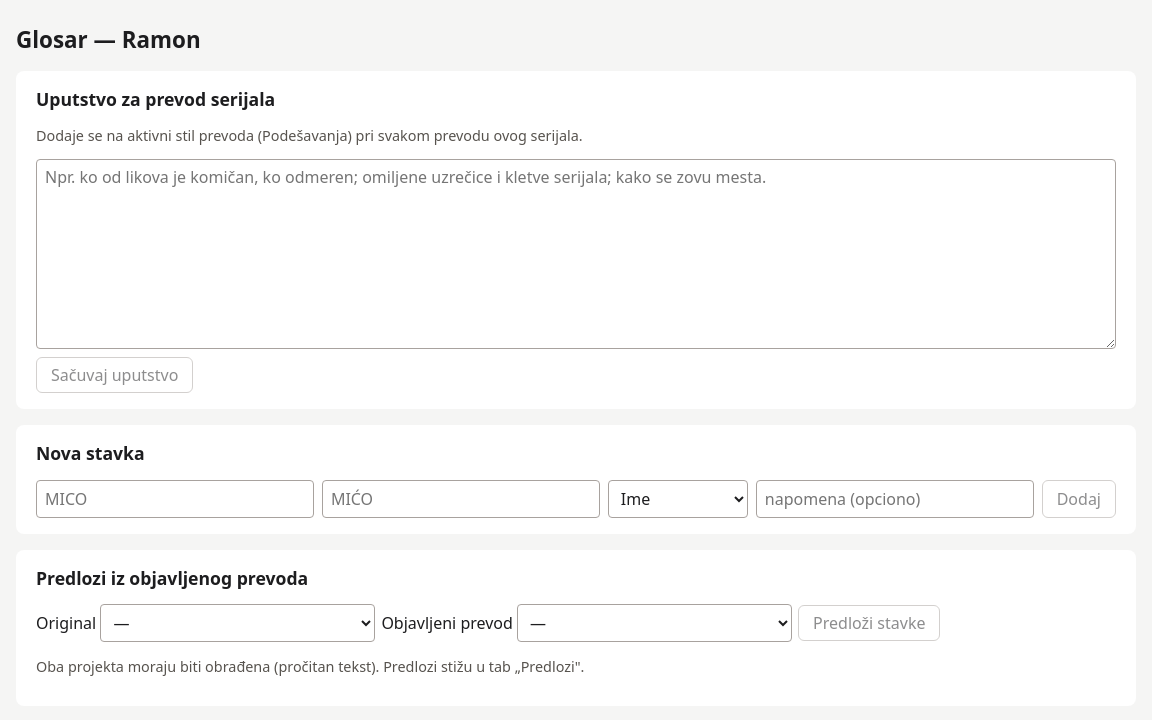
GlossaryPage › pokreće predloge iz objavljenog prevoda
Select "Ramon 12 — Pasakr" in the dropdown labelled "Original" at point(238, 623), box left=100, top=604, right=375, bottom=642
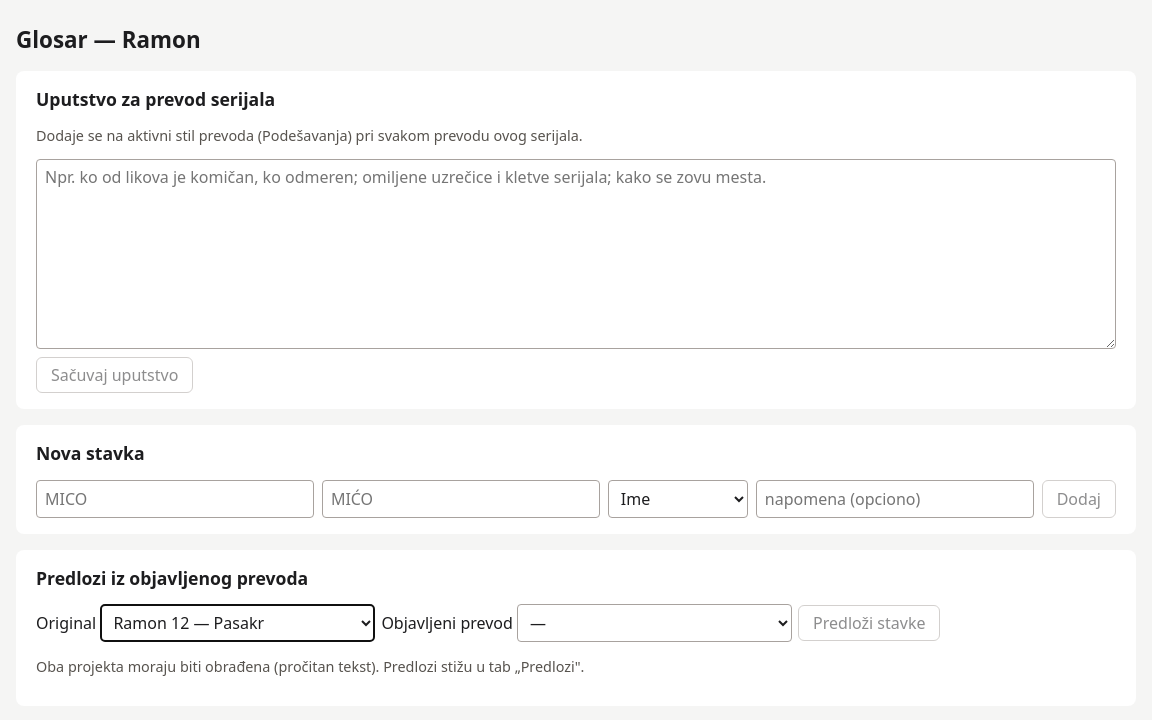
Select "Ramon 12 — Pasakr (referenca)" in the dropdown labelled "Objavljeni prevod" at point(655, 623), box left=517, top=604, right=792, bottom=642
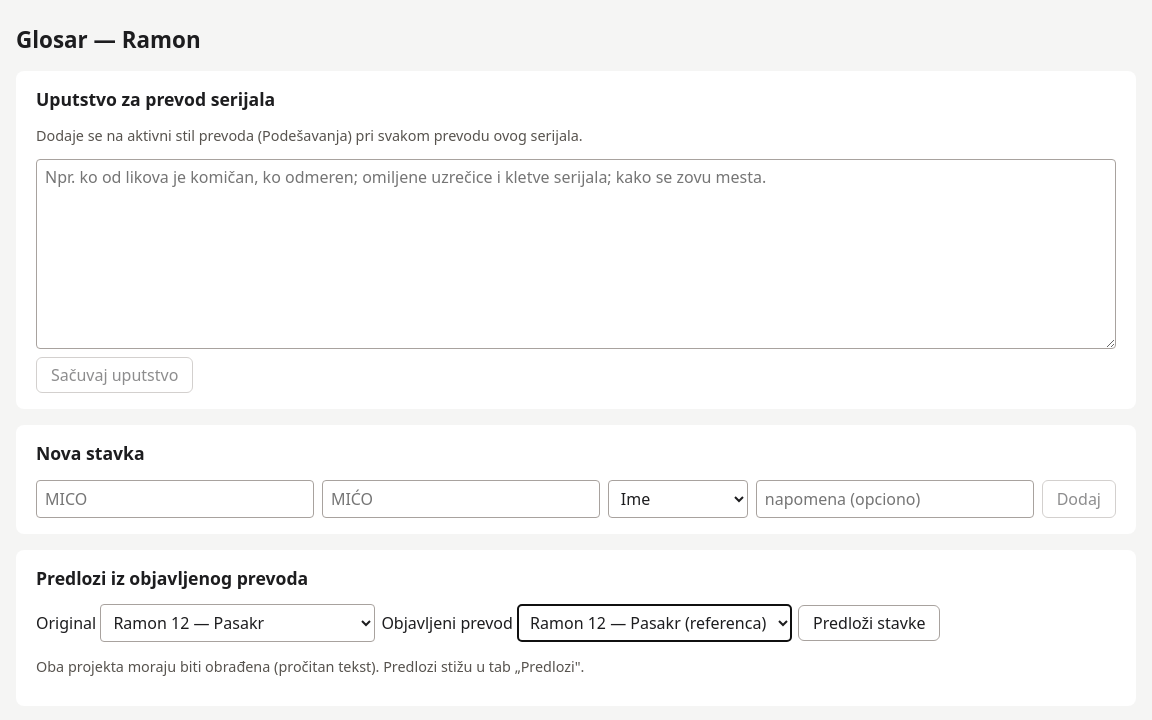
Click the button "Predloži stavke" at point(869, 623), box left=798, top=605, right=940, bottom=641
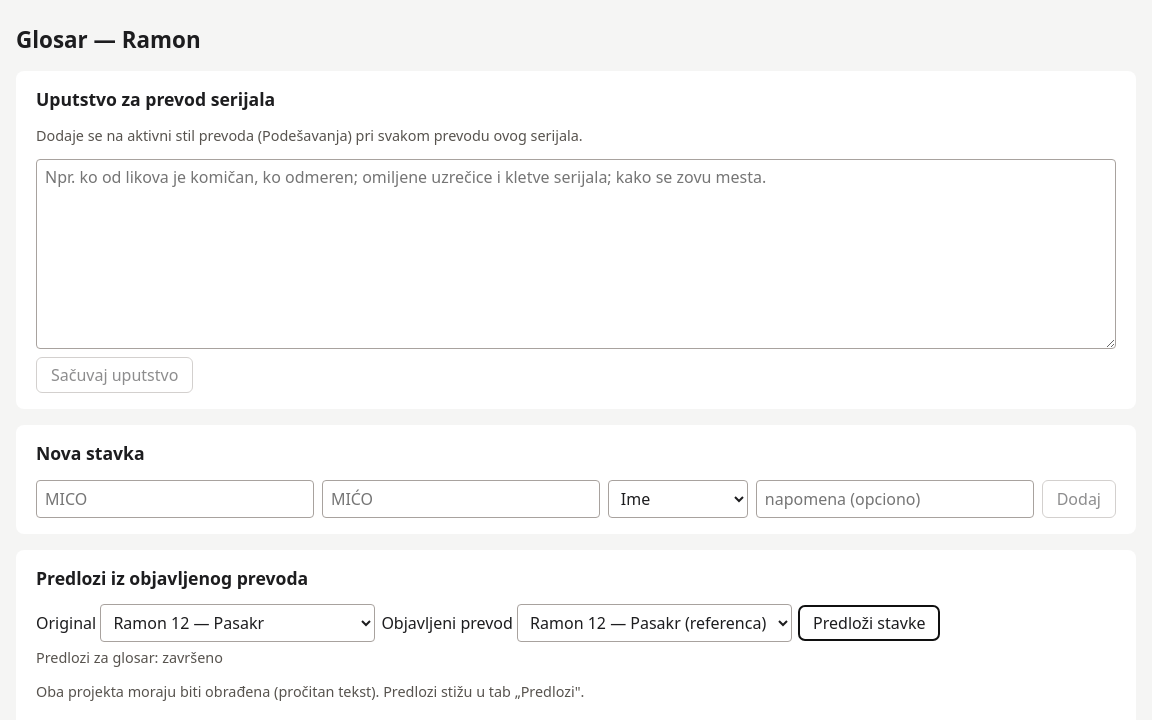
Expected: the text "Predlozi za glosar: završeno" is shown, left=36, top=648, right=223, bottom=667
